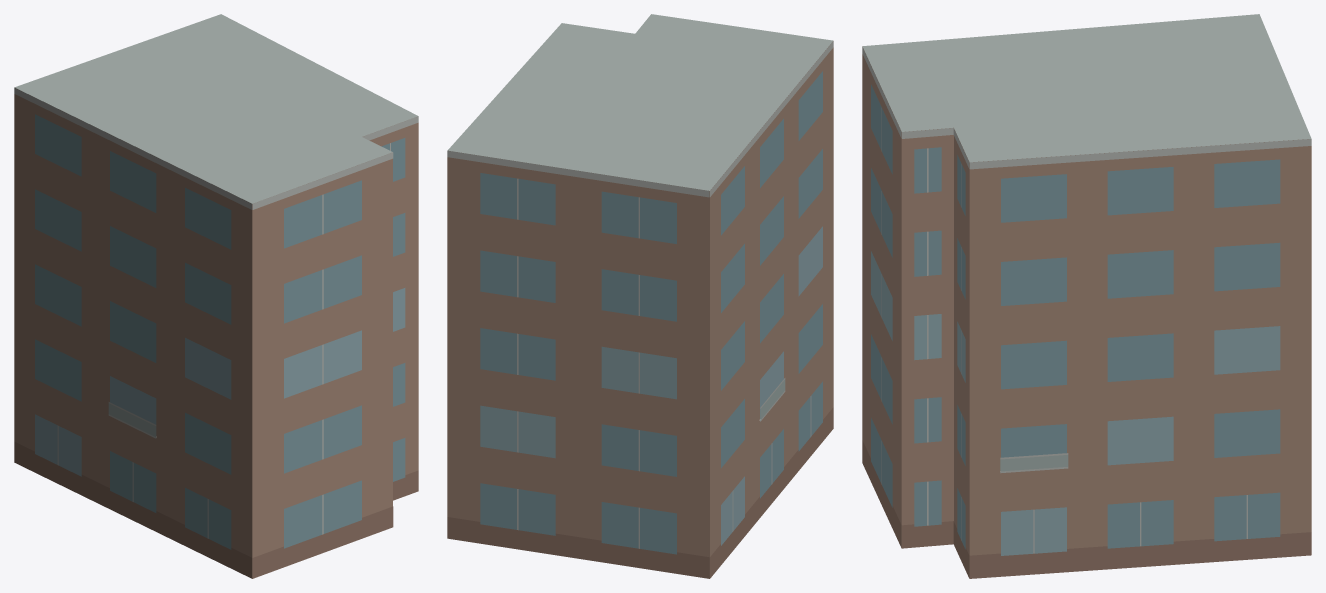
Rendered from survey-upis-32532978.glb.
The picture shows the model from 3 angles, left to right: view 1: azimuth 30°, elevation 25°; view 2: azimuth 150°, elevation 25°; view 3: azimuth 270°, elevation 25°; orthographic projection. The views are drawn at different scales.
Visible parts, largest first — view 1: survey-upis-32532978.tmp; view 2: survey-upis-32532978.tmp; view 3: survey-upis-32532978.tmp.
Part boxes in pixels (x1,y1,x2,y2): survey-upis-32532978.tmp: [14, 14, 418, 578]; survey-upis-32532978.tmp: [447, 14, 833, 578]; survey-upis-32532978.tmp: [862, 14, 1311, 578].
Size of the model in its own units: 10.97 by 14.35 by 14.04.
